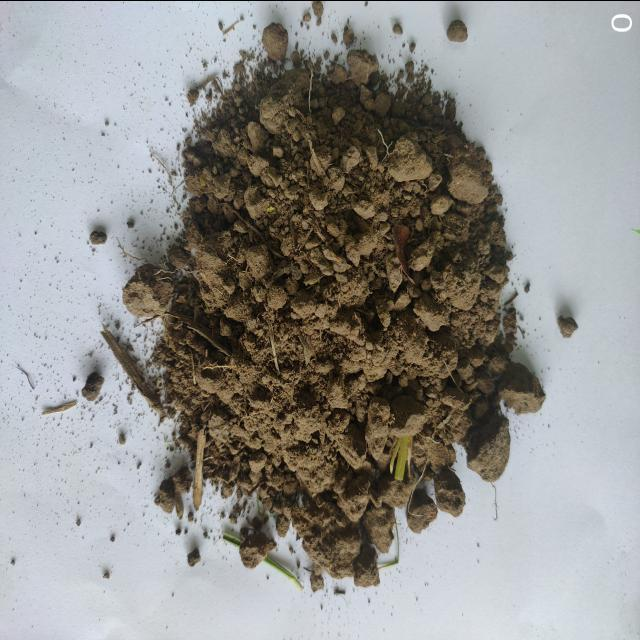soil: (206, 144, 476, 448)
